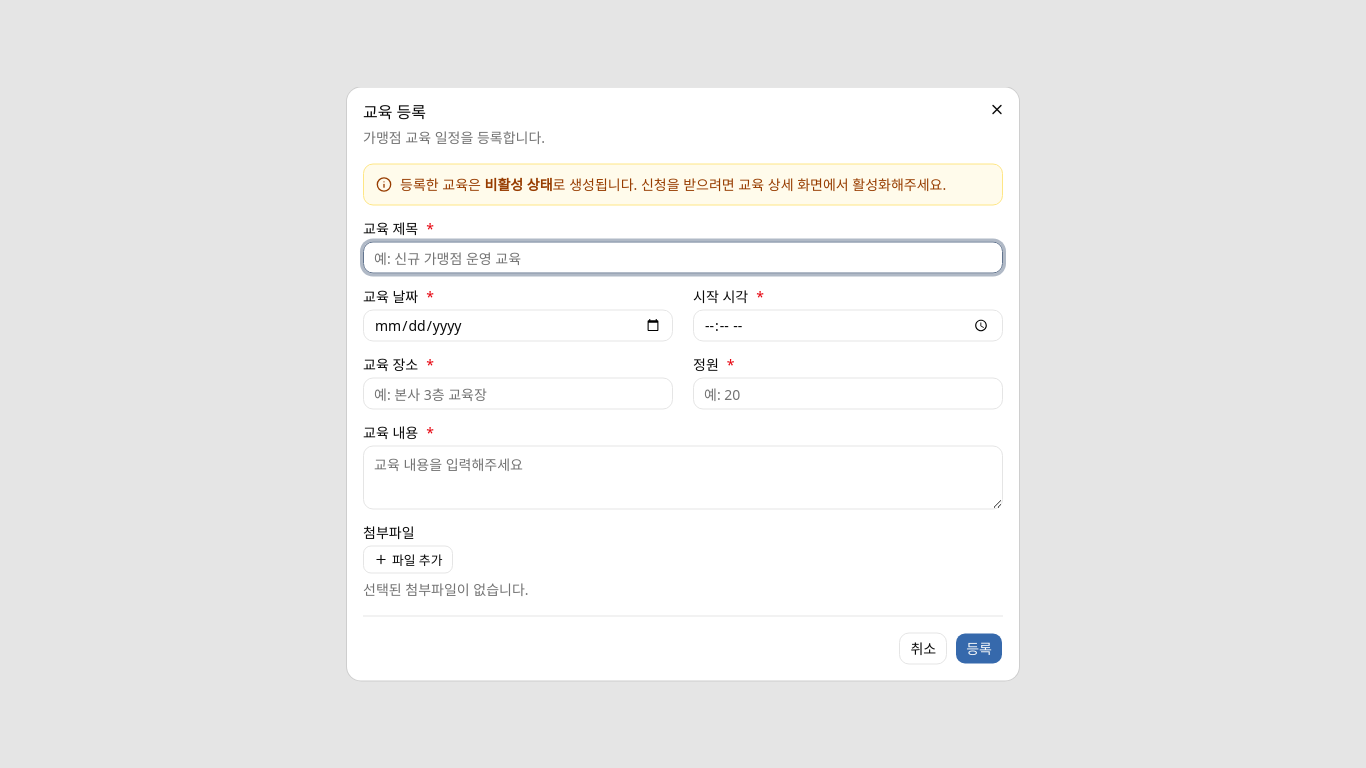
Scenario: FranchiseEducationCreateDialog › 서버 검증 실패 시 모달이 유지되고 root 에러가 표시된다(실패가 삼켜지지 않음)
In the date field labelled "교육 날짜 *": {"x": 518, "y": 326} [363, 310, 673, 342], type "2026-07-15"
In the time field labelled "시작 시각 *": {"x": 848, "y": 326} [693, 310, 1003, 342], type "09:30"
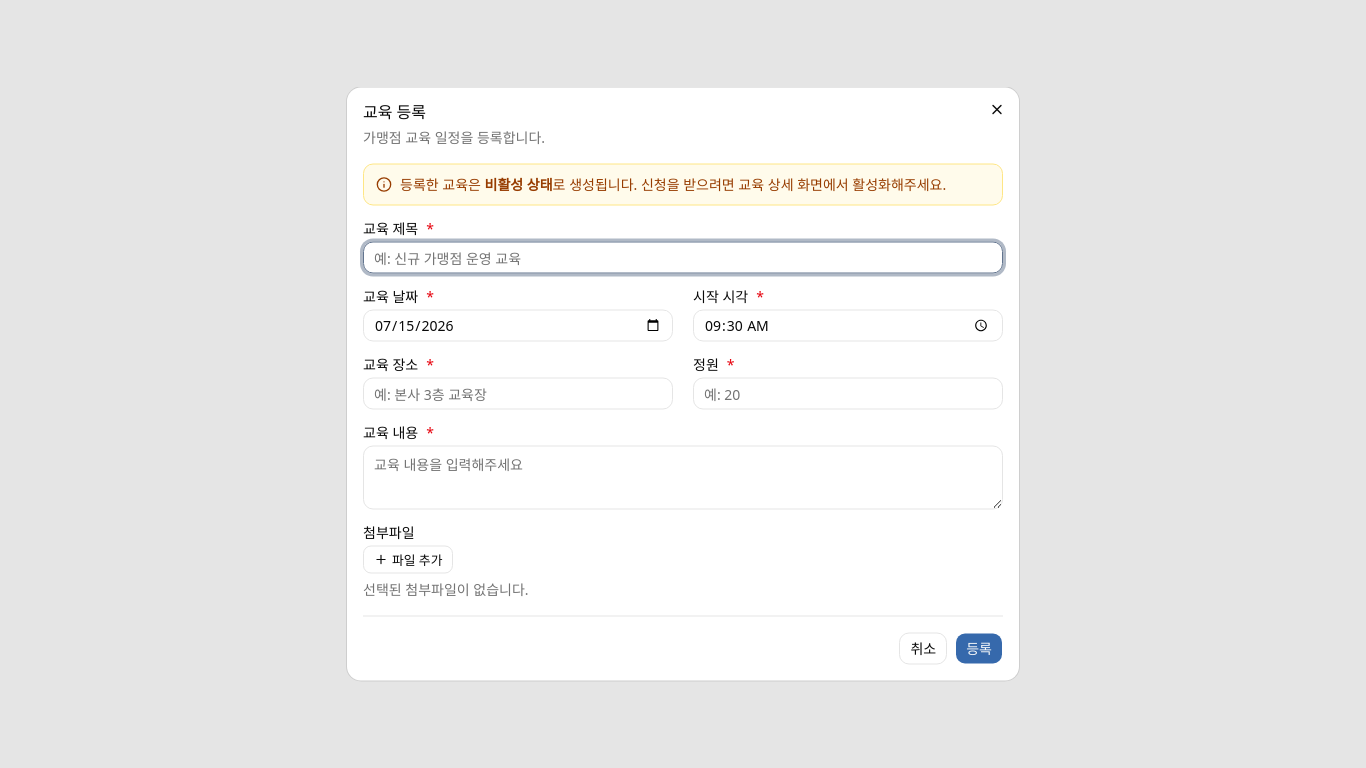
In the field labelled "교육 장소 *": {"x": 518, "y": 394} [363, 378, 673, 410], type "본사 3층 교육장"
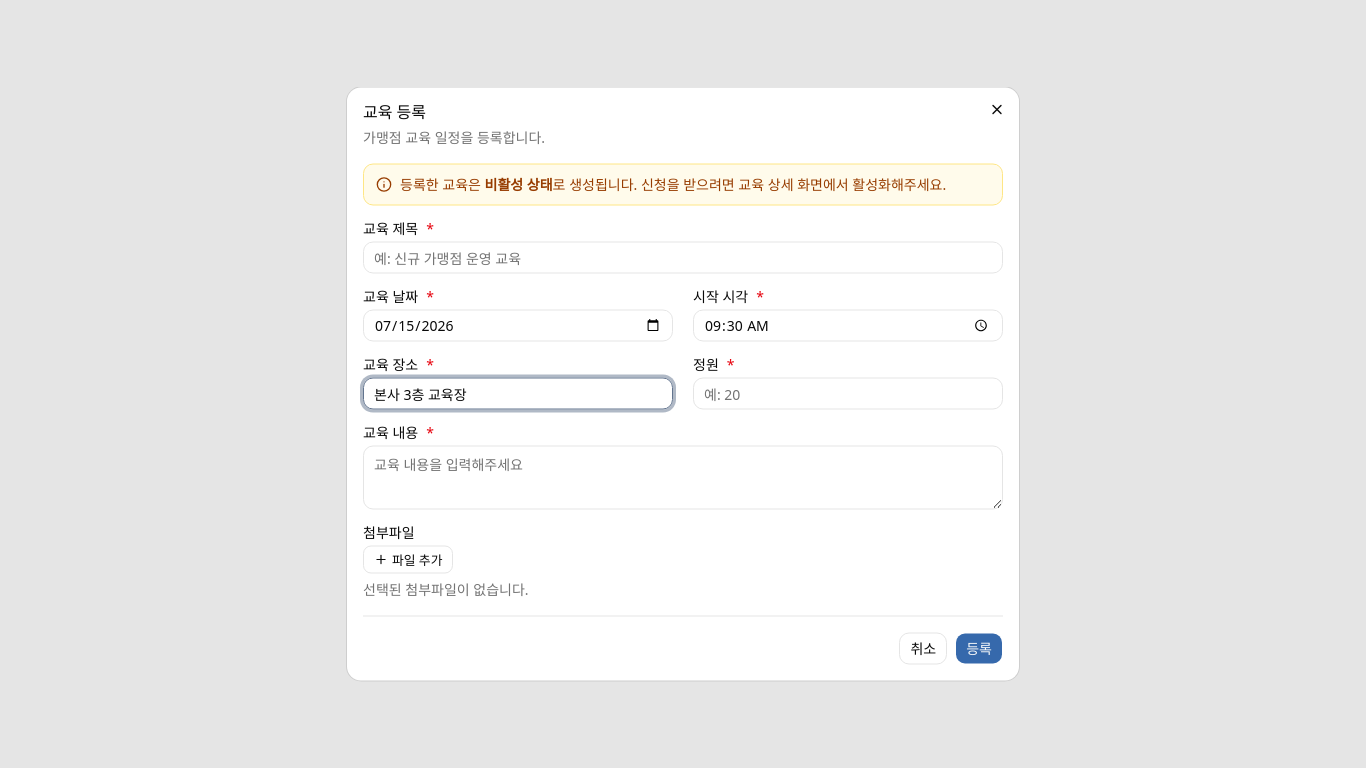
In the field labelled "교육 제목 *": {"x": 683, "y": 258} [363, 242, 1003, 274], type "신규 가맹점 운영 교육"
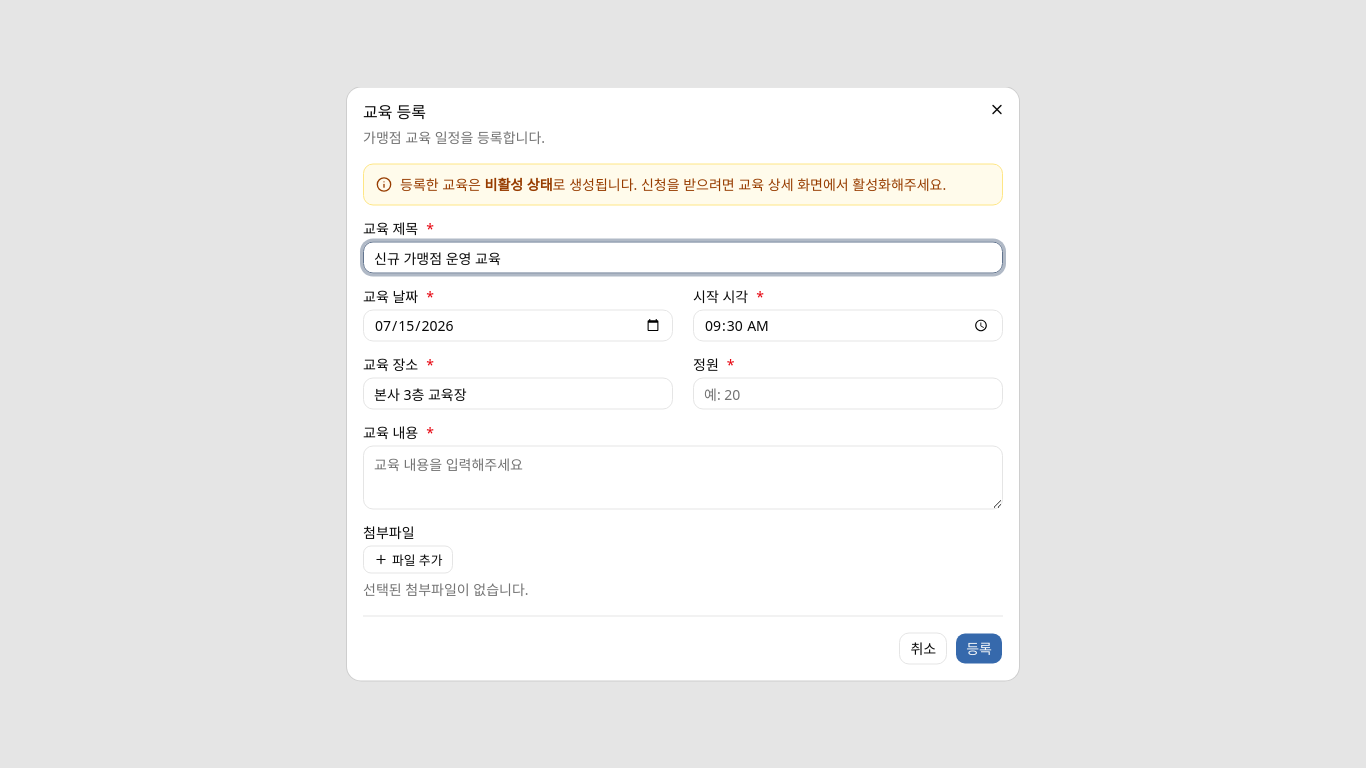
In the text box labelled "교육 내용 *": {"x": 683, "y": 478} [363, 446, 1003, 510], type "가맹점 운영 전반 교육 내용"
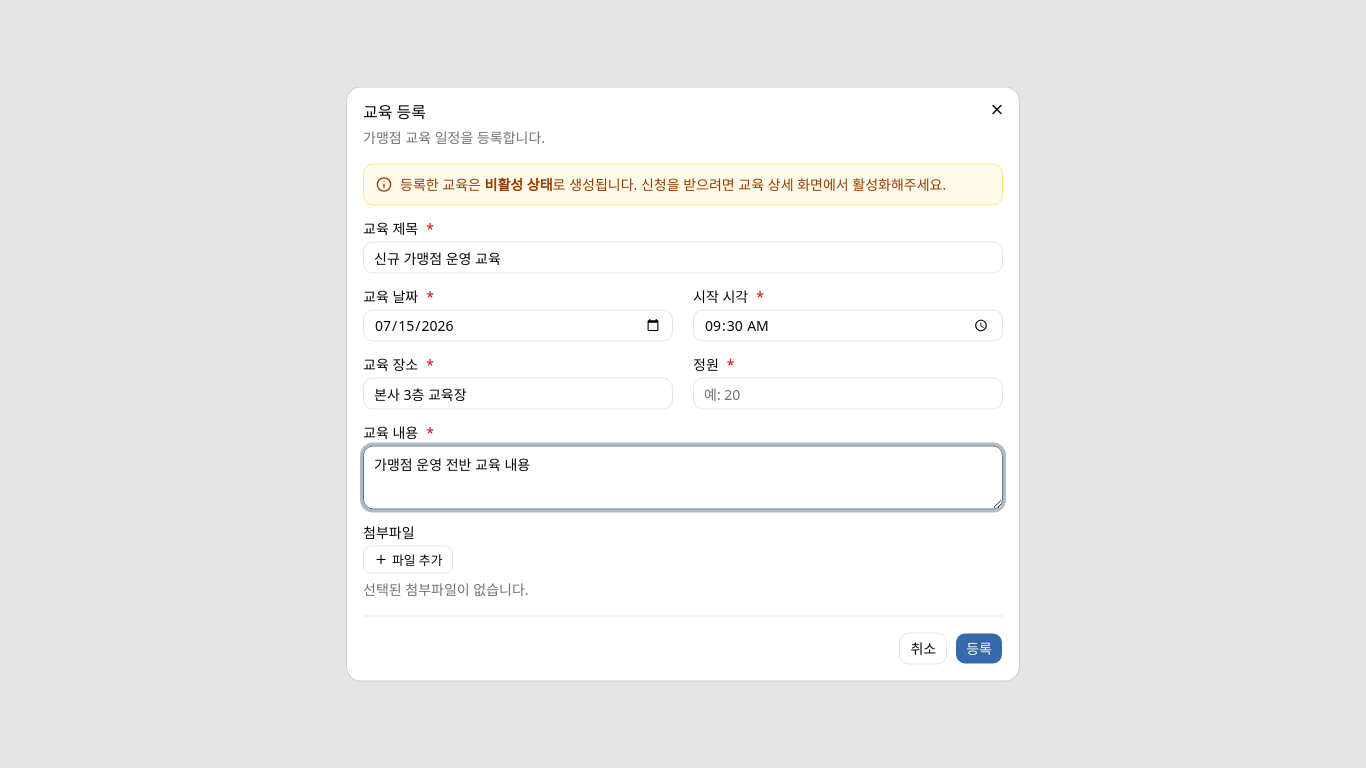
In the number field labelled "정원 *": {"x": 848, "y": 394} [693, 378, 1003, 410], type "20"
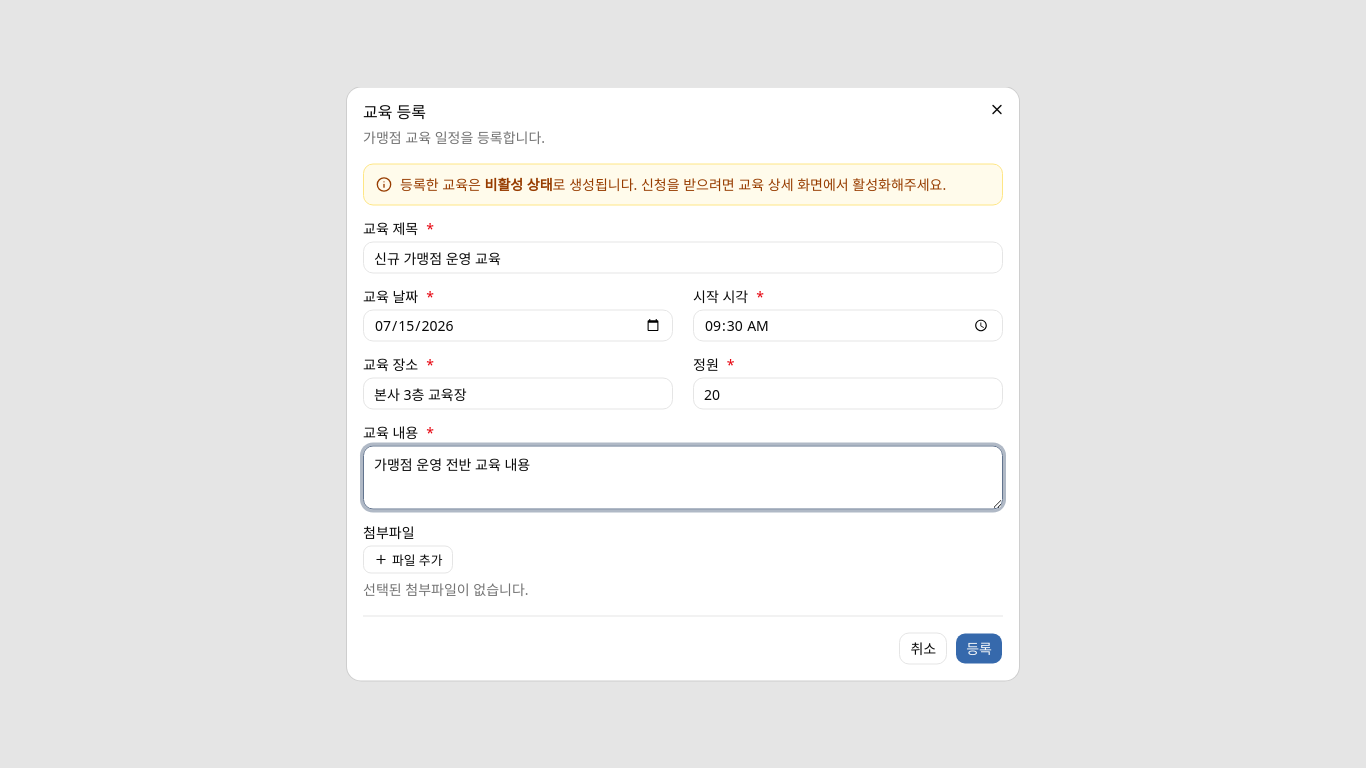
Click the button "등록": {"x": 979, "y": 648} [955, 632, 1003, 664]
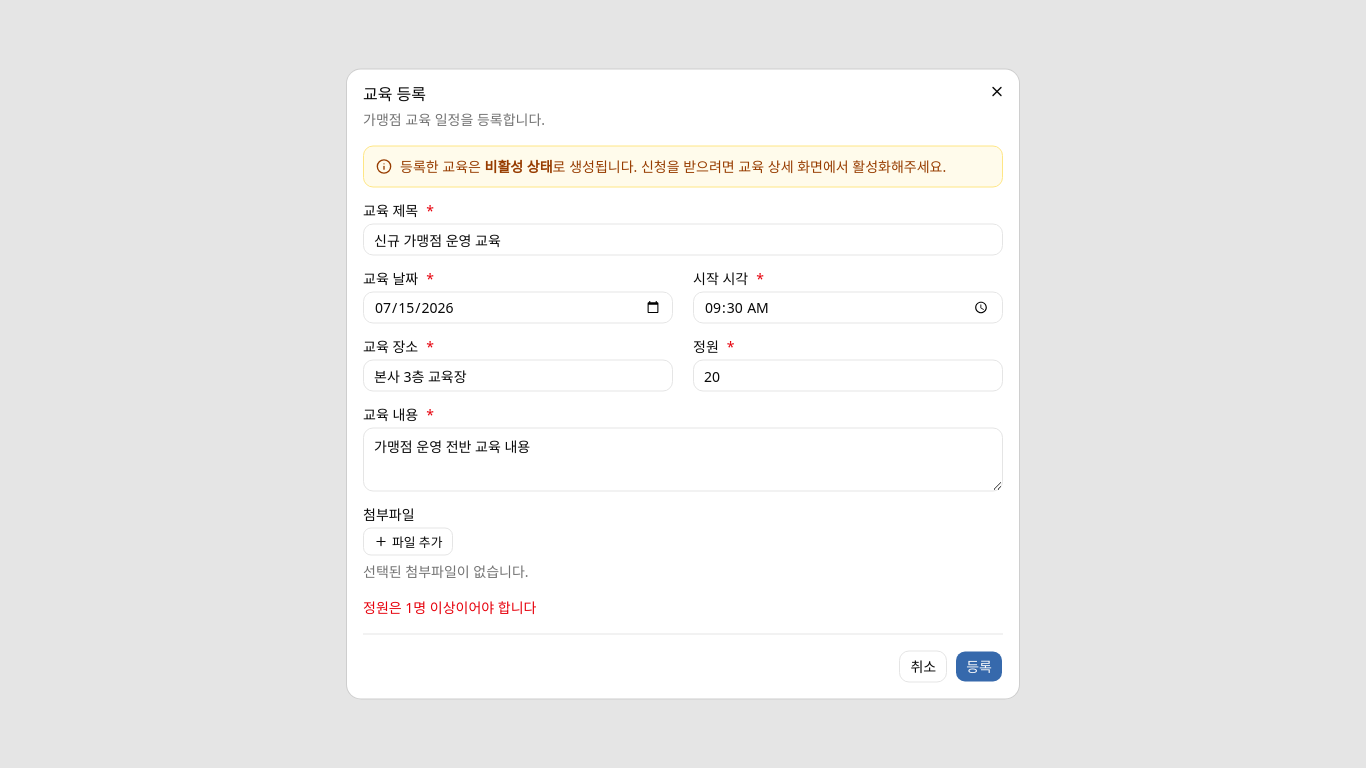
Now the text "정원은 1명 이상이어야 합니다" is shown, box [363, 598, 536, 616]
